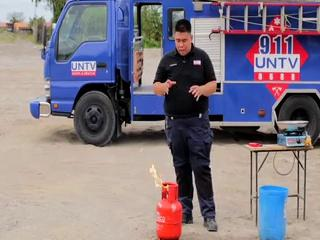Fire: (146, 160, 172, 197)
